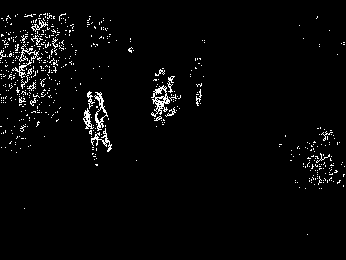person: (81, 88, 113, 164)
